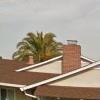Chimney: (53, 34, 85, 76)
